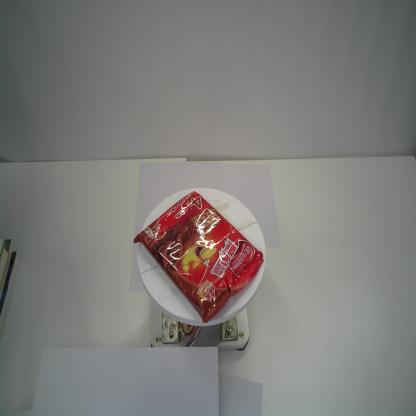Dessert: (132, 190, 264, 323)
